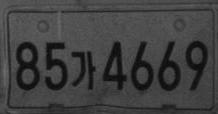4: (101, 40, 128, 90)
5: (44, 41, 68, 91)
6: (156, 40, 181, 91), (130, 41, 154, 91)
8: (14, 40, 40, 91)
9: (183, 39, 208, 91)
가: (70, 49, 96, 90)
